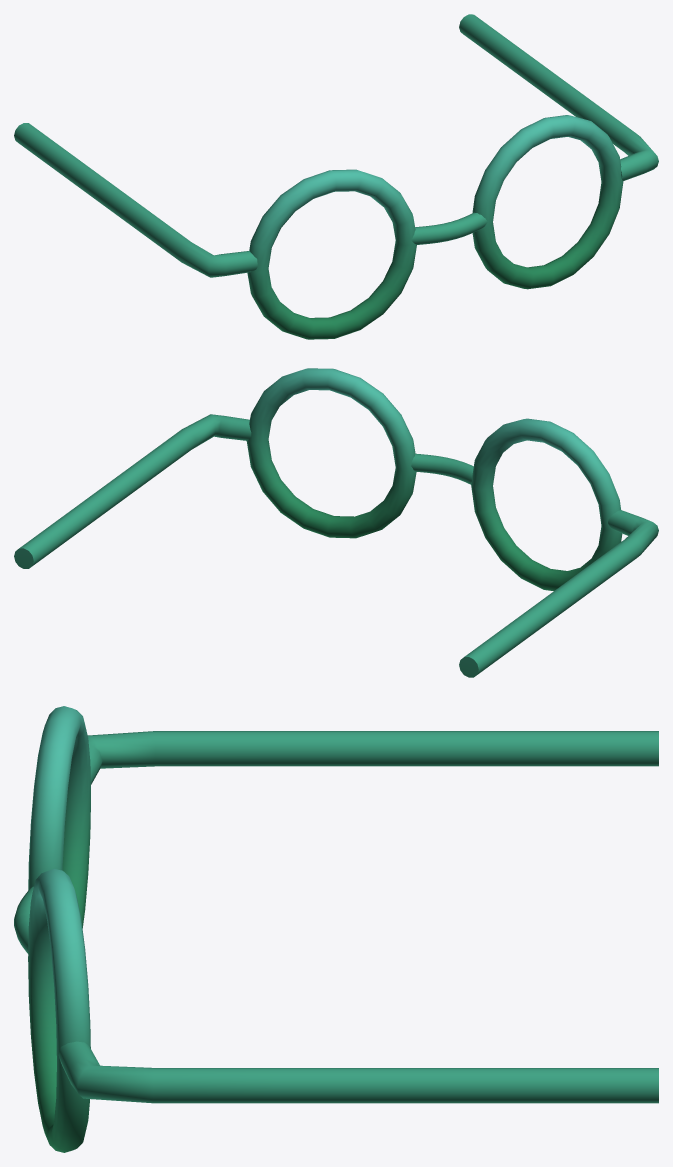
File: glass5.fbx
3 renders of one model, top to bottom at view 1: azimuth 30°, elevation 25°; view 2: azimuth 150°, elevation 25°; view 3: azimuth 270°, elevation 25°, orthographic. The views are drawn at different scales.
Visible parts, largest first — view 1: NurbsPath.012; view 2: NurbsPath.012; view 3: NurbsPath.012.
Part boxes in pixels (<box>): NurbsPath.012: <box>14,14,658,339</box>; NurbsPath.012: <box>14,368,658,677</box>; NurbsPath.012: <box>14,706,658,1152</box>.
Bounding box in the file's own units: 183 × 236 × 81.02.
